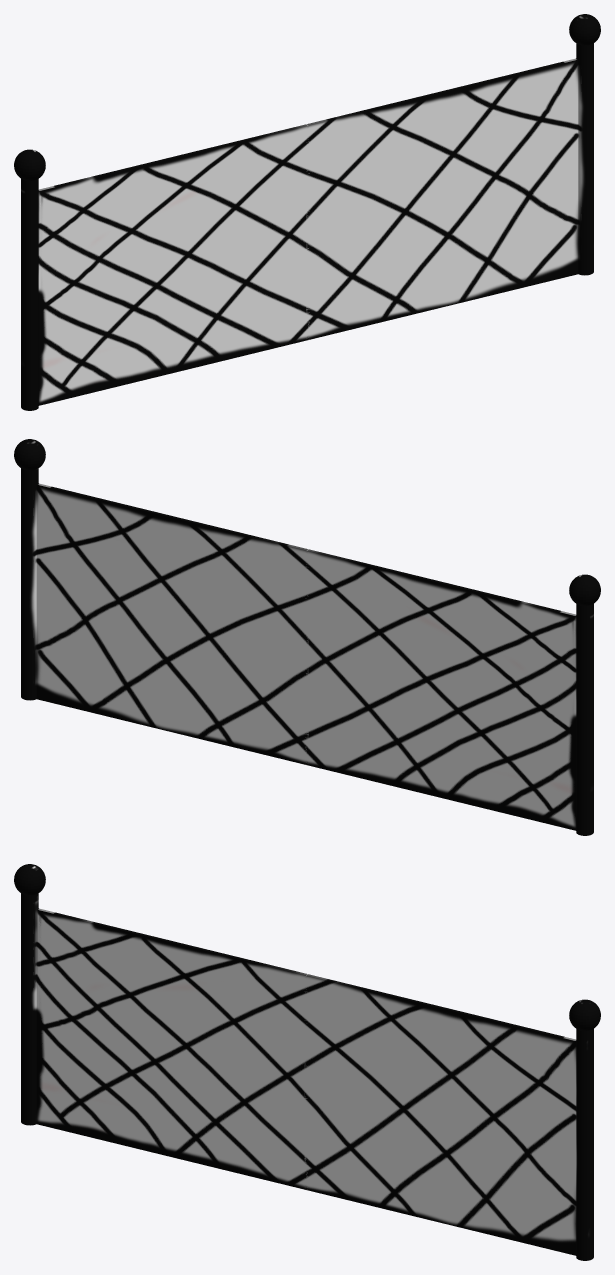
File: Fence.fbx
3 views of the same model, one above another, from view 1: azimuth 30°, elevation 25°; view 2: azimuth 150°, elevation 25°; view 3: azimuth 330°, elevation 25° (orthographic).
Visible parts, largest first — view 1: Sphere; view 2: Sphere; view 3: Sphere.
Boxes of the visible parts, left/top/right/bottom form: Sphere: left=14, top=14, right=600, bottom=410; Sphere: left=14, top=439, right=600, bottom=835; Sphere: left=14, top=864, right=600, bottom=1260.
Bounding box in the file's own units: 4215 × 1771 × 200.
